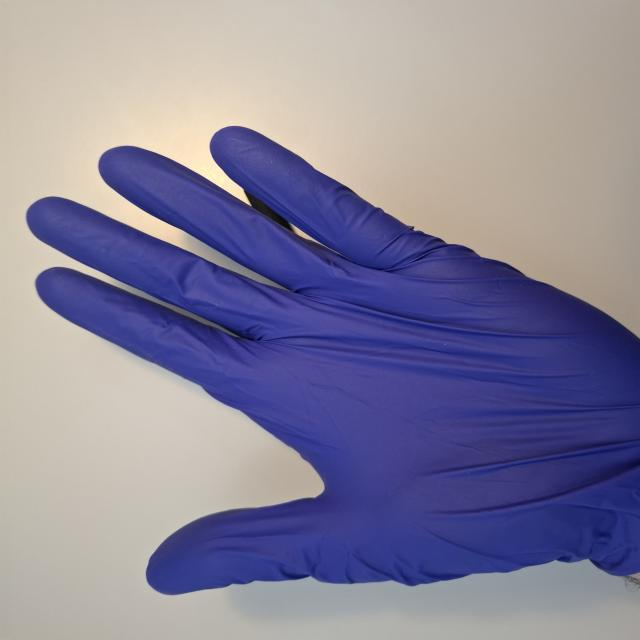glove_on: (21, 124, 640, 598)
